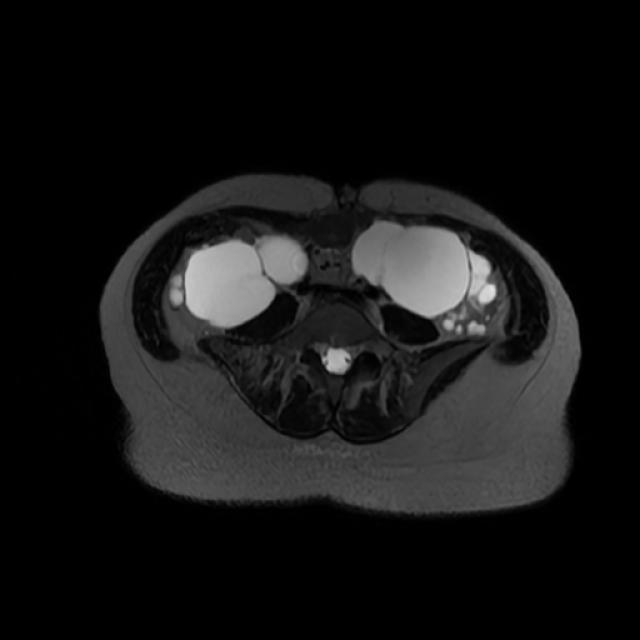sag: (166, 233, 309, 329)
sol: (353, 221, 501, 337)
